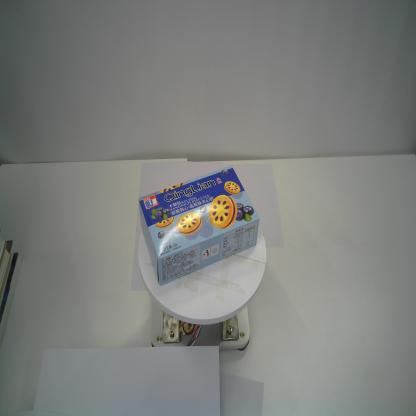Dessert: (138, 164, 260, 287)
